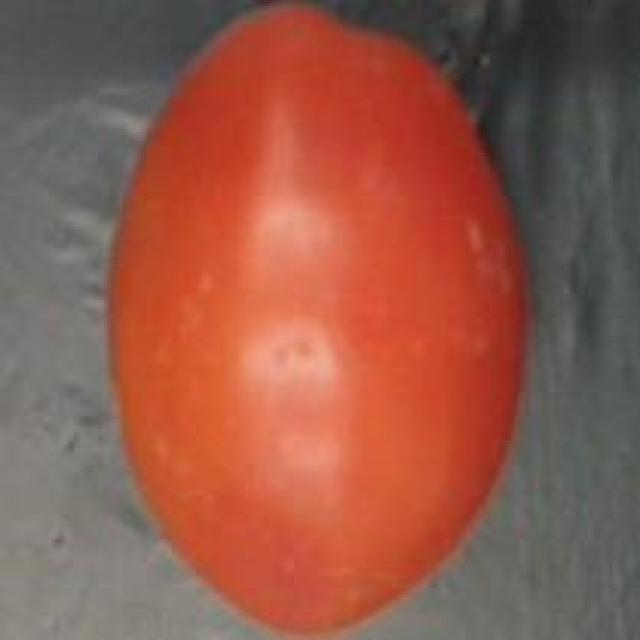ripe tomato: (95, 0, 539, 640)
